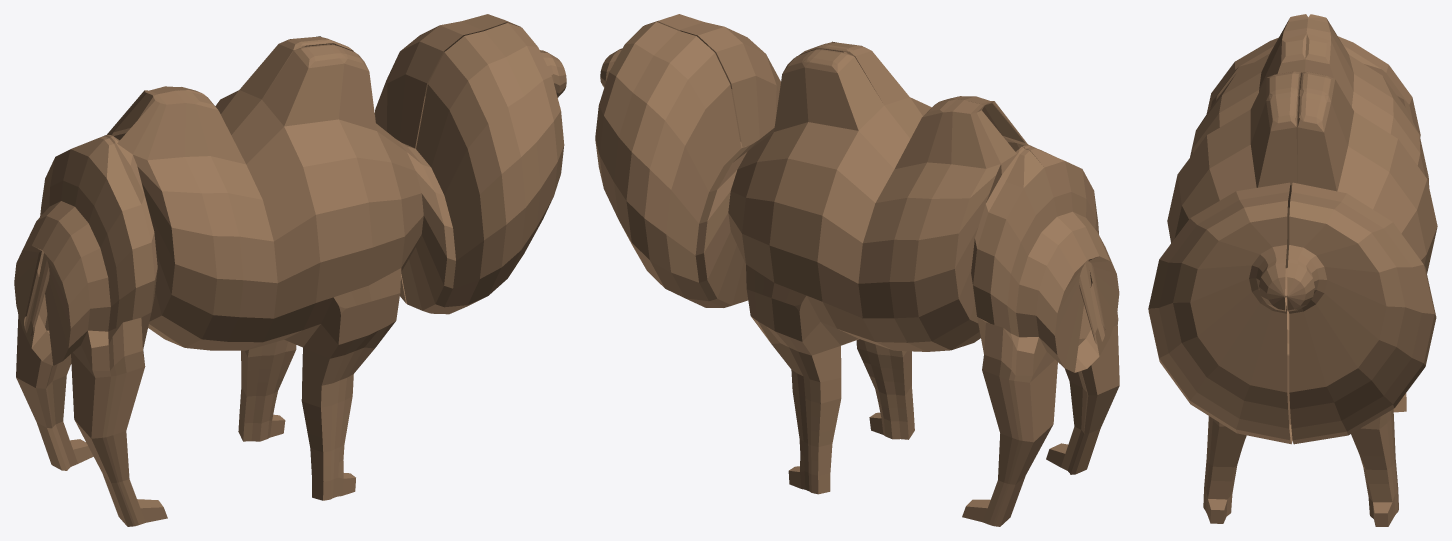
Rendered from camel1.fbx.
The picture shows the model from 3 angles, left to right: view 1: azimuth 30°, elevation 25°; view 2: azimuth 150°, elevation 25°; view 3: azimuth 270°, elevation 25°; orthographic projection. The views are drawn at different scales.
Parts seen in each view (by area): view 1: Cylinder.001; view 2: Cylinder.001; view 3: Cylinder.001.
Part boxes in pixels (x1,y1,x2,y2): Cylinder.001: (14, 14, 566, 526); Cylinder.001: (595, 14, 1119, 526); Cylinder.001: (1148, 14, 1437, 526).
Size of the model in its own units: 2184 by 1675 by 986.
